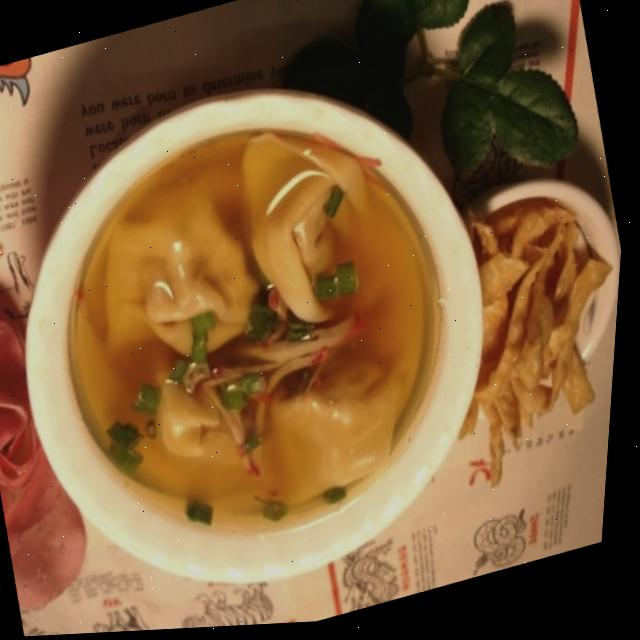汤锅炖物: (0, 43, 537, 628)
